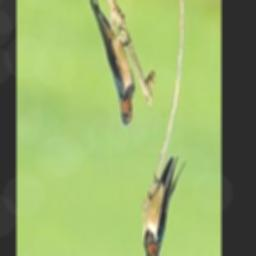Swallow: (86, 0, 134, 126), (142, 155, 185, 256)
